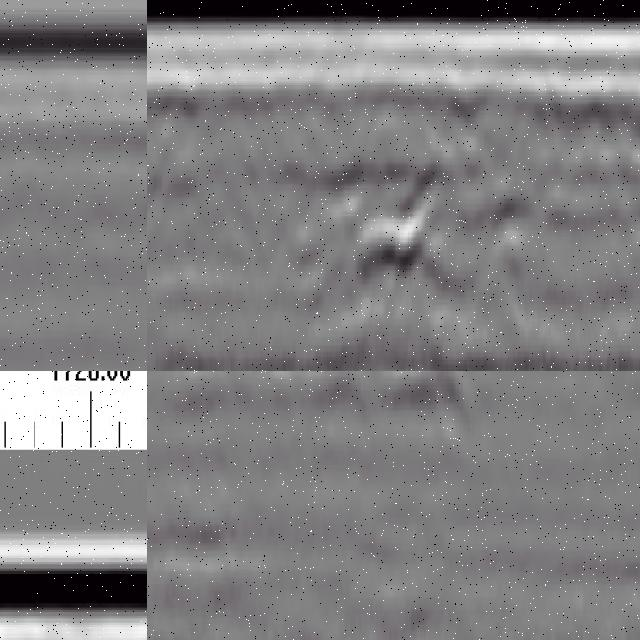loose: (148, 372, 480, 431), (344, 185, 487, 284)
